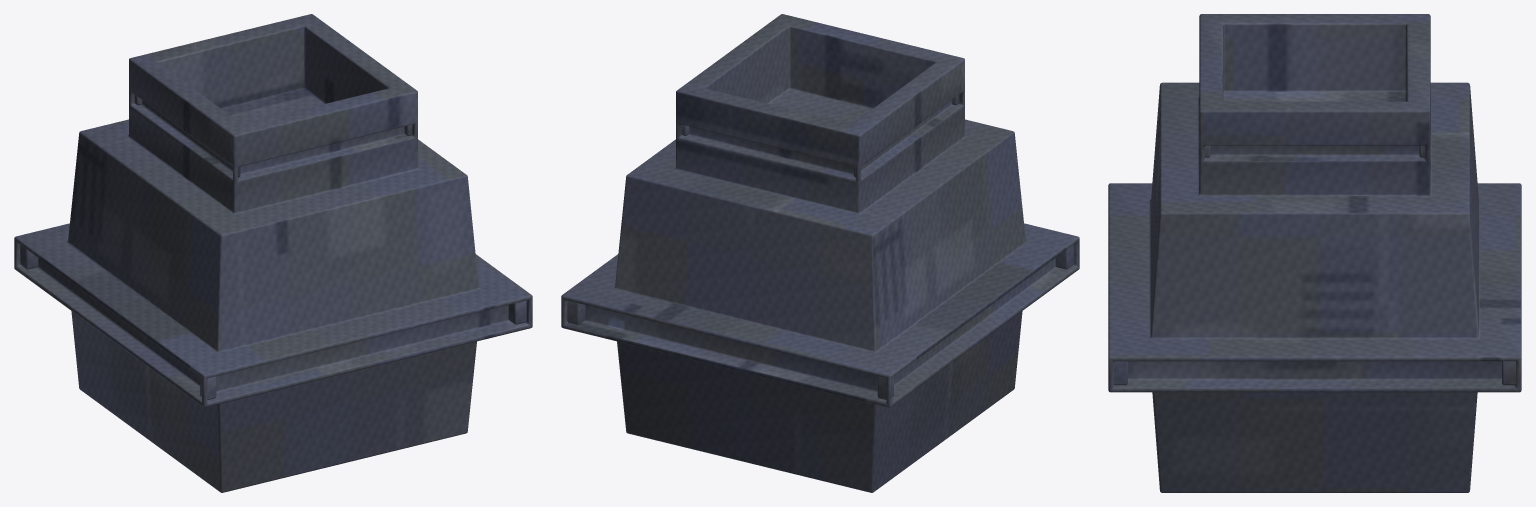
Rendered from greeble-box.glb.
3 renders of one model, left to right at view 1: azimuth 30°, elevation 25°; view 2: azimuth 150°, elevation 25°; view 3: azimuth 270°, elevation 25°, orthographic. The views are drawn at different scales.
Parts seen in each view (by area): view 1: Cube.029; view 2: Cube.029; view 3: Cube.029.
Part boxes in pixels (box(x1,y1,x2,y2)): Cube.029: box(14, 14, 532, 492); Cube.029: box(561, 14, 1079, 492); Cube.029: box(1108, 14, 1521, 492).
Bounding box in the file's own units: 0.6251 × 0.6113 × 0.6251.
1 material, 1 textured.
